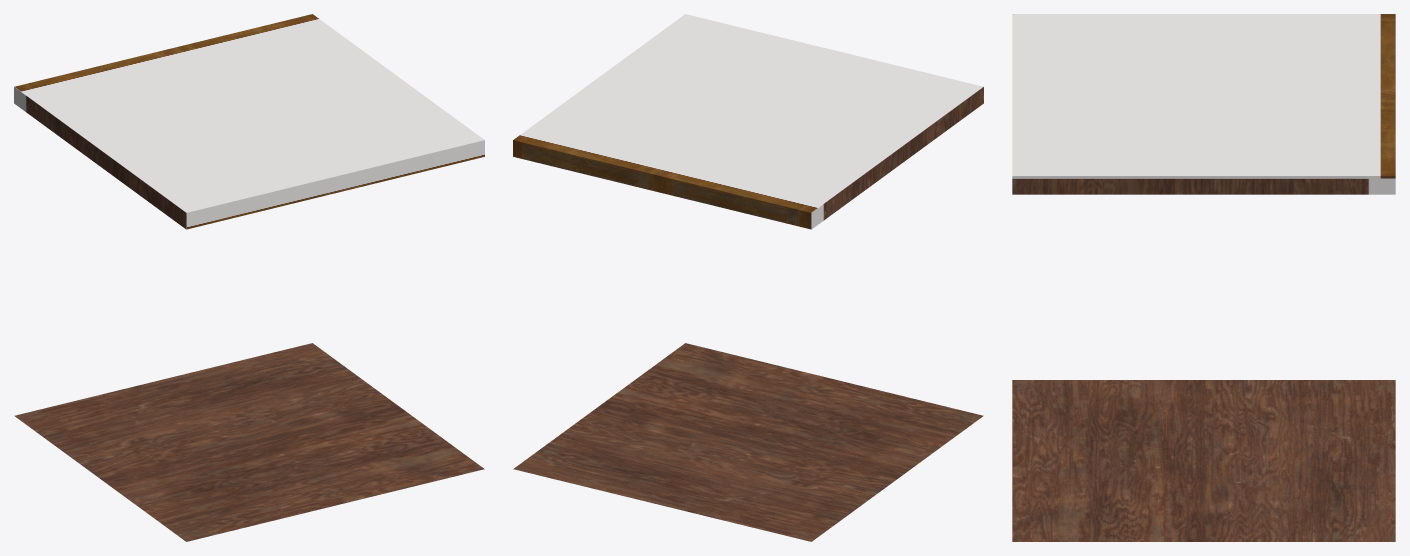
File: 1st_Floor.fbx
3 views of the same model, side by side, from view 1: azimuth 30°, elevation 25°; view 2: azimuth 150°, elevation 25°; view 3: azimuth 270°, elevation 25° (orthographic). The views are drawn at different scales.
Parts seen in each view (by area): view 1: Floor_upper; view 2: Floor_upper; view 3: Floor_upper.
Boxes of the visible parts, left/top/right/bottom form: Floor_upper: left=14, top=14, right=484, bottom=541; Floor_upper: left=513, top=14, right=983, bottom=541; Floor_upper: left=1012, top=14, right=1395, bottom=541.
Bounding box in the file's own units: 300 × 316 × 300.
